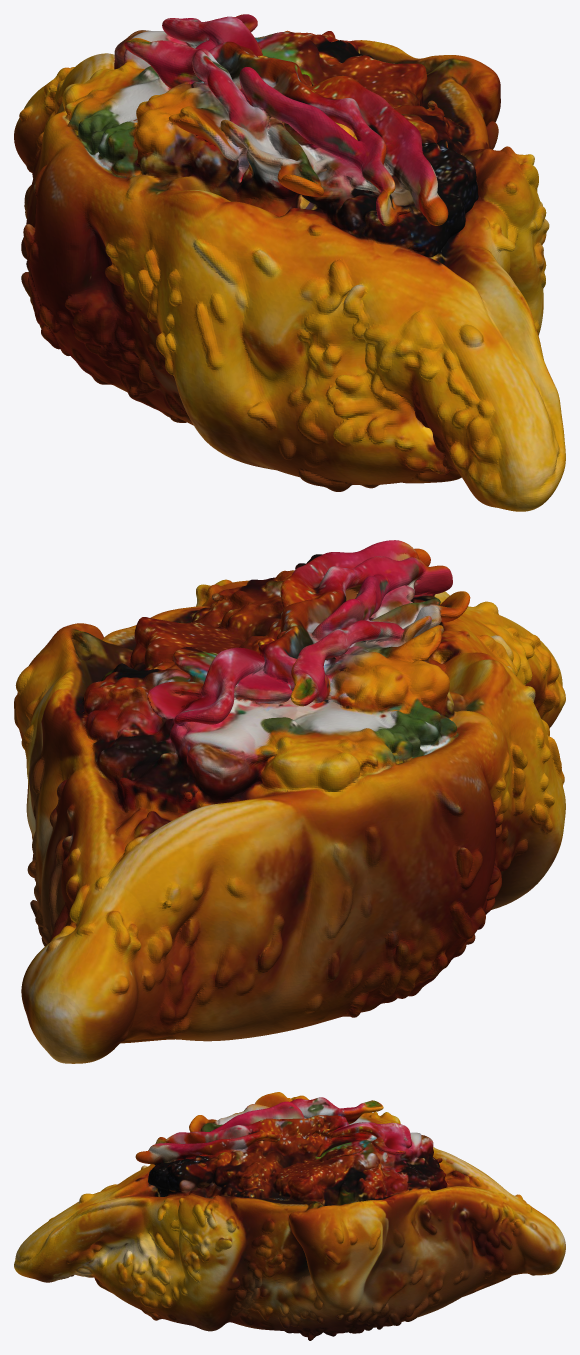
The model's file is mexican-pibil-pork-3D.glb.
3 renders of one model, top to bottom at view 1: azimuth 30°, elevation 25°; view 2: azimuth 150°, elevation 25°; view 3: azimuth 270°, elevation 25°, orthographic. The views are drawn at different scales.
Parts seen in each view (by area): view 1: tripo_node_8a03da69-f5aa-481e-95da-f98e160a229e; view 2: tripo_node_8a03da69-f5aa-481e-95da-f98e160a229e; view 3: tripo_node_8a03da69-f5aa-481e-95da-f98e160a229e.
Boxes of the visible parts, x1,y1,x2,y2 form: tripo_node_8a03da69-f5aa-481e-95da-f98e160a229e: [14, 14, 565, 511]; tripo_node_8a03da69-f5aa-481e-95da-f98e160a229e: [14, 540, 565, 1063]; tripo_node_8a03da69-f5aa-481e-95da-f98e160a229e: [14, 1092, 565, 1340].
Size of the model in its own units: 0.5404 by 0.4109 by 1.
1 material, 1 textured.
